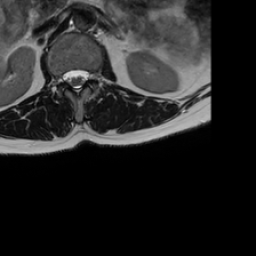CCS_normal: (71, 59, 79, 100)
LFS_normal: (89, 60, 97, 90)
LLS_normal: (79, 60, 89, 91)
RFS_normal: (54, 65, 62, 91)
RLS_normal: (62, 61, 71, 91)
